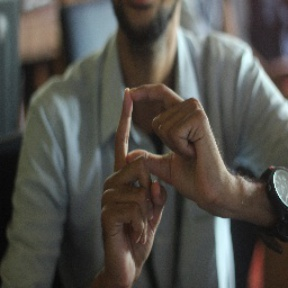D: (111, 80, 209, 201)
